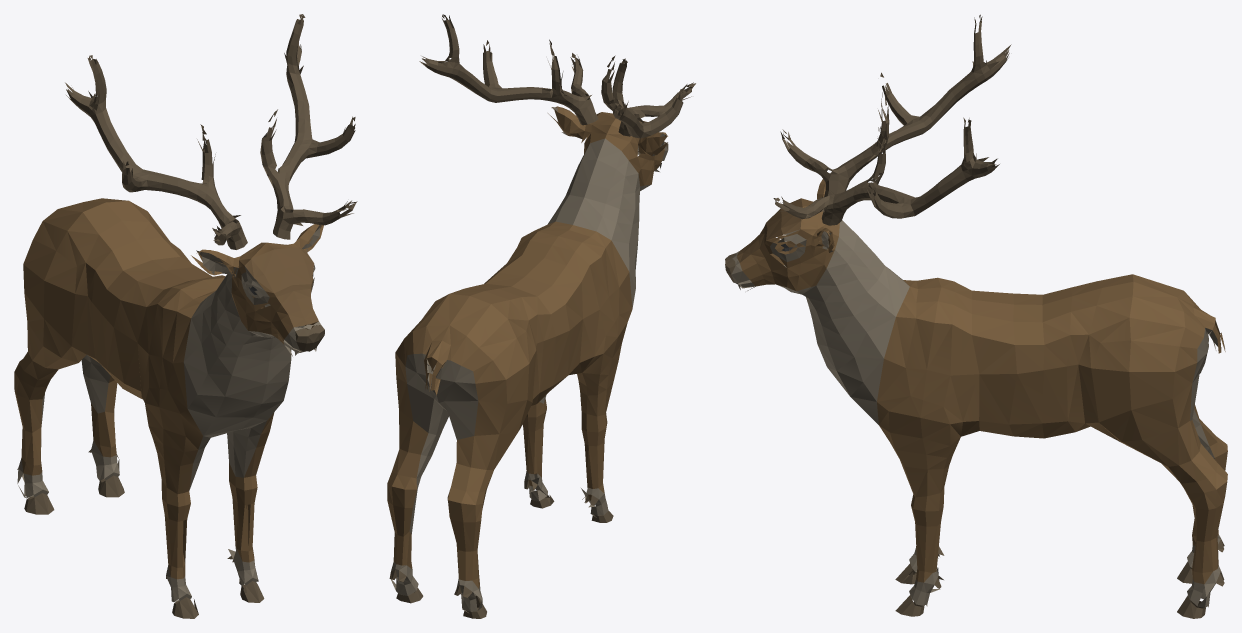
Rendered from grathorn.glb.
The picture shows the model from 3 angles, left to right: view 1: azimuth 30°, elevation 25°; view 2: azimuth 150°, elevation 25°; view 3: azimuth 270°, elevation 25°; orthographic projection. The views are drawn at different scales.
Visible parts, largest first — view 1: Stag; view 2: Stag; view 3: Stag.
Boxes of the visible parts, x1=… form: Stag: x1=14, y1=14, x2=357, y2=618; Stag: x1=387, y1=14, x2=695, y2=618; Stag: x1=725, y1=14, x2=1227, y2=618.
Size of the model in its own units: 0.4484 by 0.995 by 0.8449.
